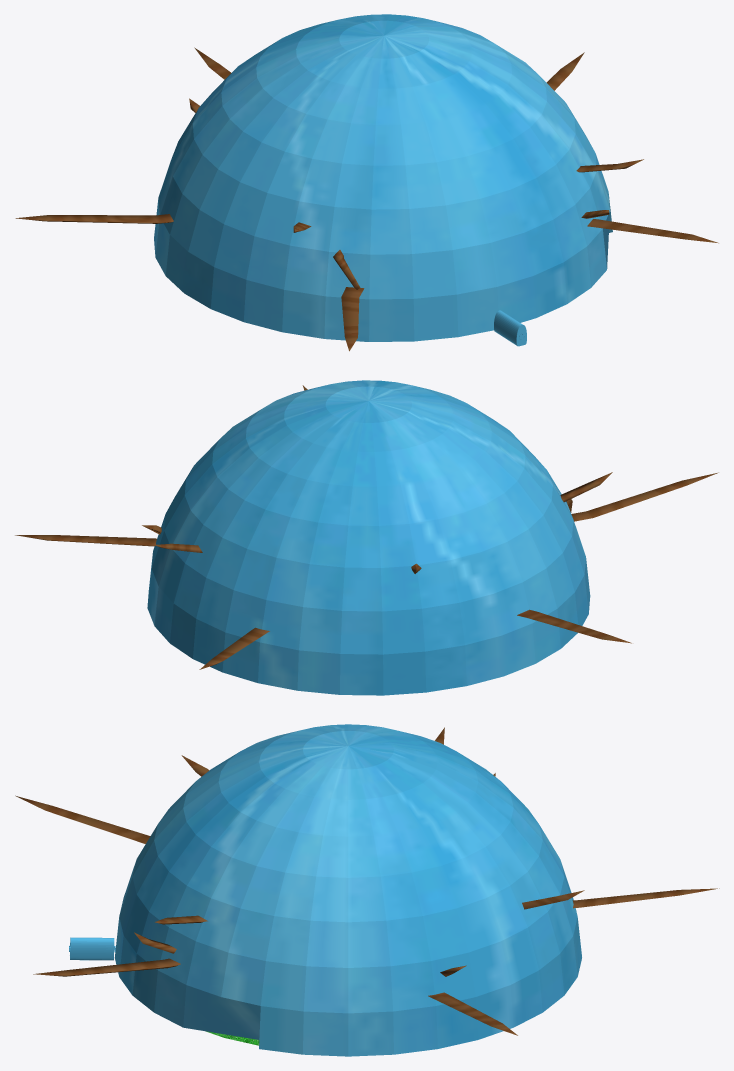
File: JoshuaPFingerle-SandyDome.glb
3 renders of one model, top to bottom at view 1: azimuth 30°, elevation 25°; view 2: azimuth 150°, elevation 25°; view 3: azimuth 270°, elevation 25°, orthographic. The views are drawn at different scales.
Parts seen in each view (by area): view 1: dome_glass, tree_bark, Door; view 2: dome_glass, tree_bark; view 3: dome_glass, tree_bark, Door.
Boxes of the visible parts, x1,y1,x2,y2 form: dome_glass: (154,14,612,341); tree_bark: (15,47,718,351); Door: (494,310,526,346); dome_glass: (147,380,590,695); tree_bark: (15,385,718,669); dome_glass: (114,724,581,1056); tree_bark: (15,727,719,1035); Door: (69,937,115,960).
Size of the model in its own units: 2024 by 670 by 2011.
24 materials, 24 textured.
